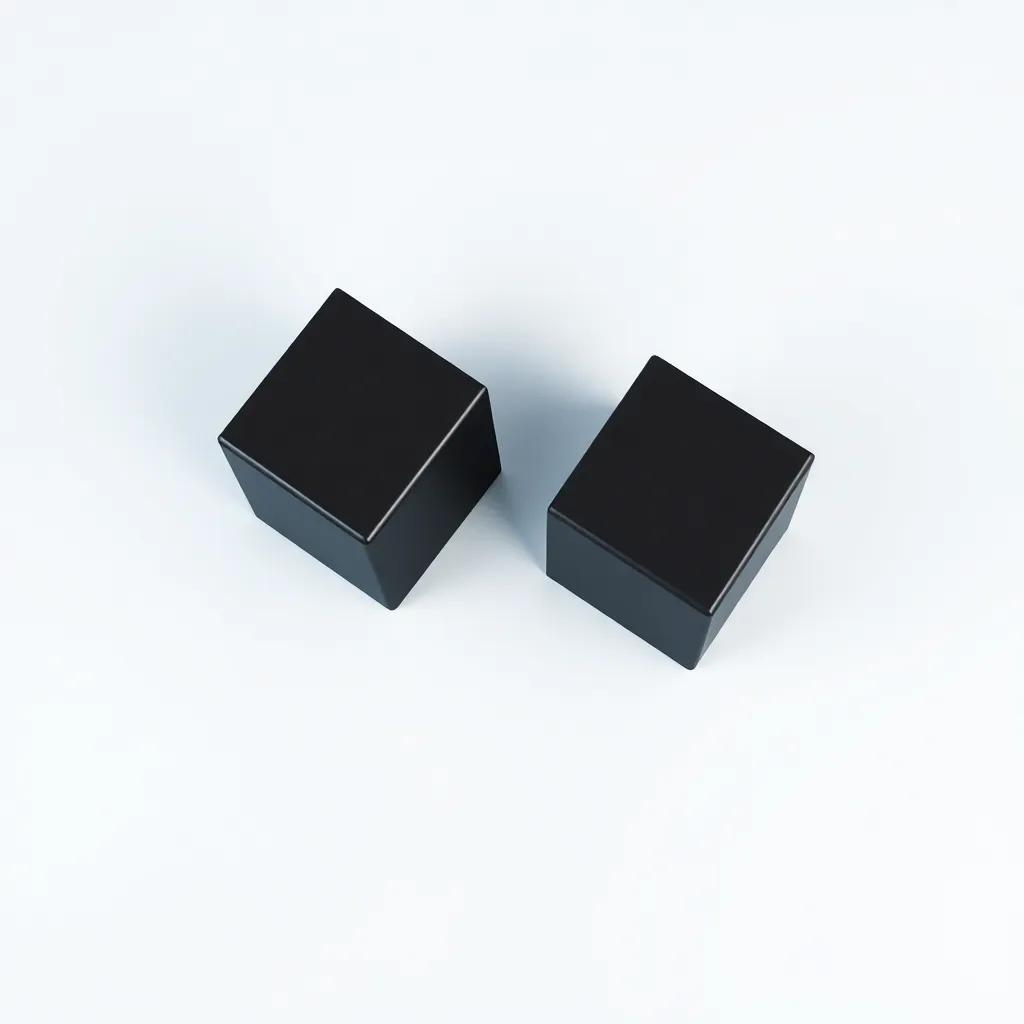cube: (216, 285, 501, 610), (544, 352, 814, 670)
